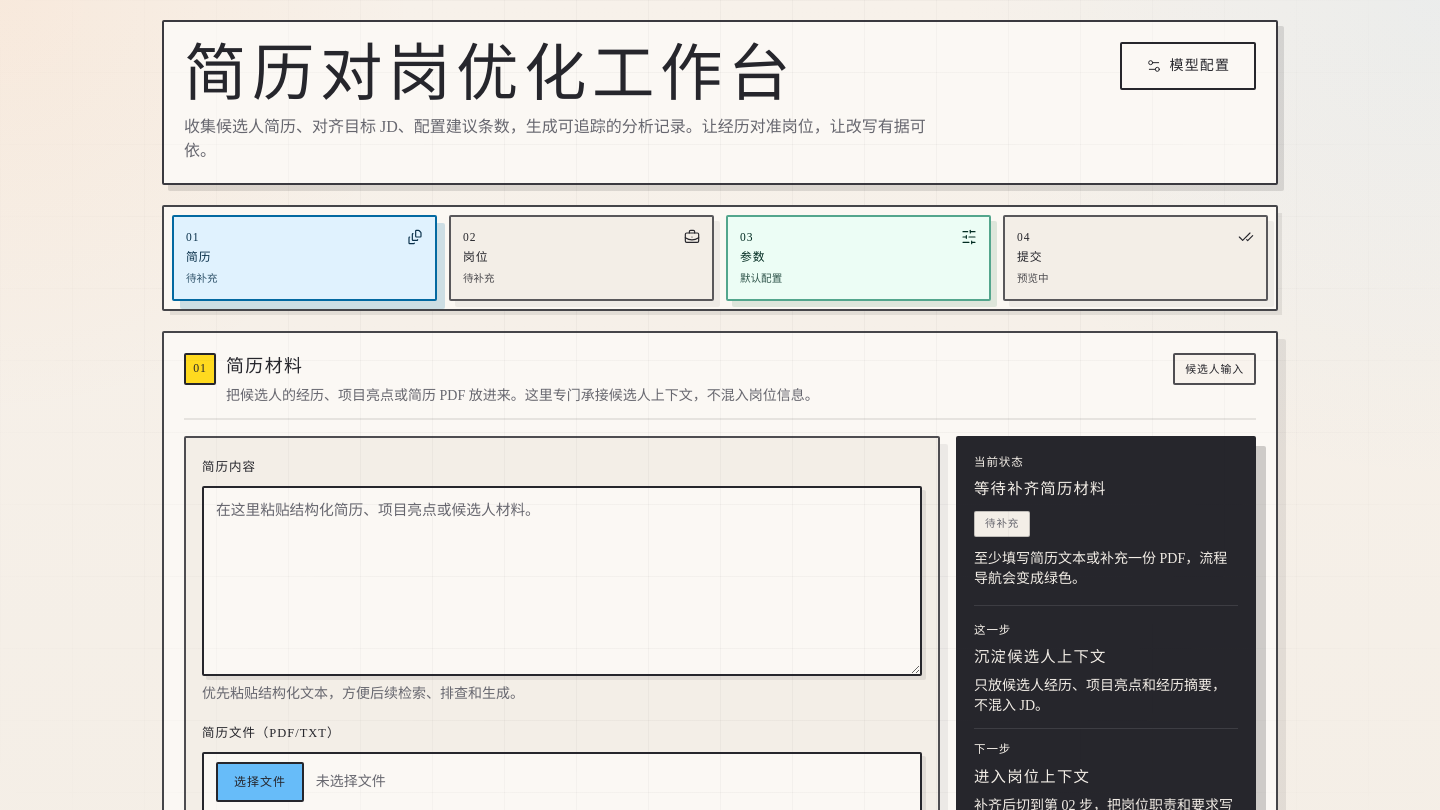
Scenario: ResumeReviewForm › opens model settings from the workspace header
Click the button "模型配置" at (1188, 66), box [1120,42,1256,90]
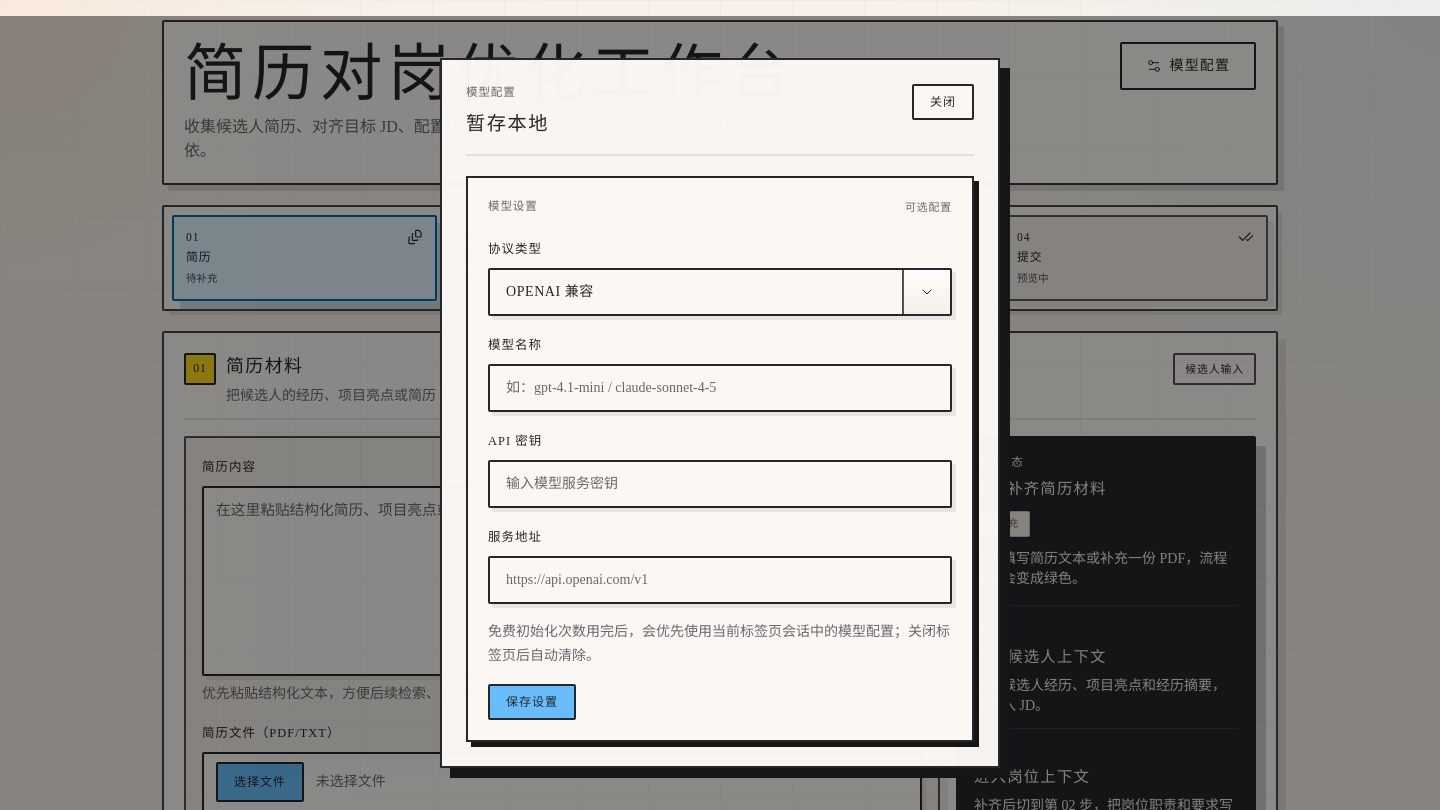
Expected: the dialog is shown
Expected: the heading "暂存本地" is shown, [466,110,549,138]
Expected: the text "模型设置" is shown, [488,198,538,216]
